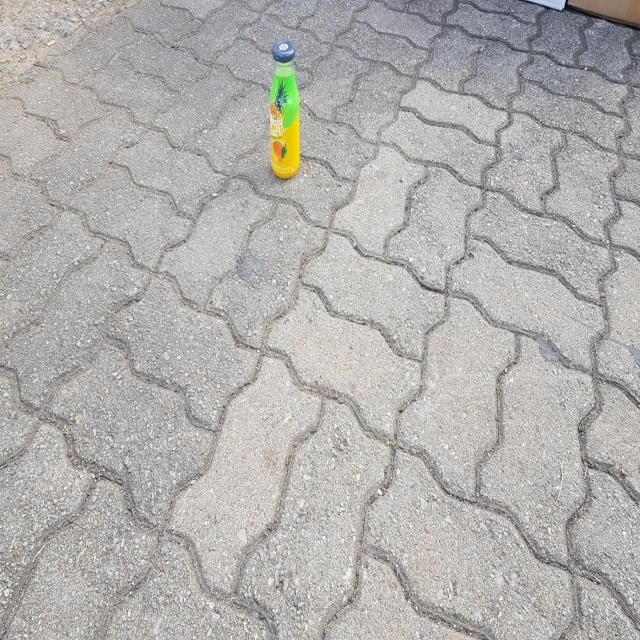glass: (270, 39, 300, 177)
